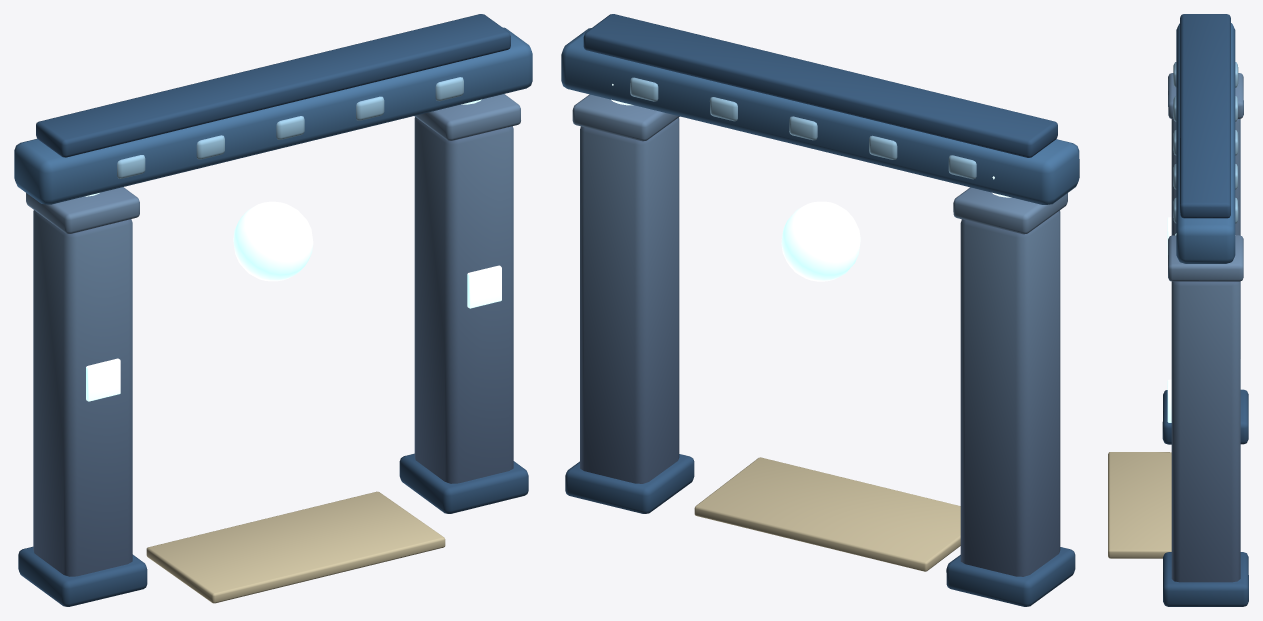
The picture shows the model from 3 angles, left to right: view 1: azimuth 30°, elevation 25°; view 2: azimuth 150°, elevation 25°; view 3: azimuth 270°, elevation 25°; orthographic projection. The views are drawn at different scales.
Visible parts, largest first — view 1: gate_df62c722; view 2: gate_df62c722; view 3: gate_df62c722.
Boxes of the visible parts, box(x1,y1,x2,y2) form: gate_df62c722: box(14, 14, 532, 606); gate_df62c722: box(561, 14, 1079, 606); gate_df62c722: box(1108, 14, 1248, 606).
Size of the model in its own units: 5.08 by 4.53 by 1.44.
